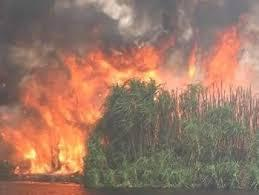fire: (1, 47, 105, 175), (87, 29, 259, 90)
